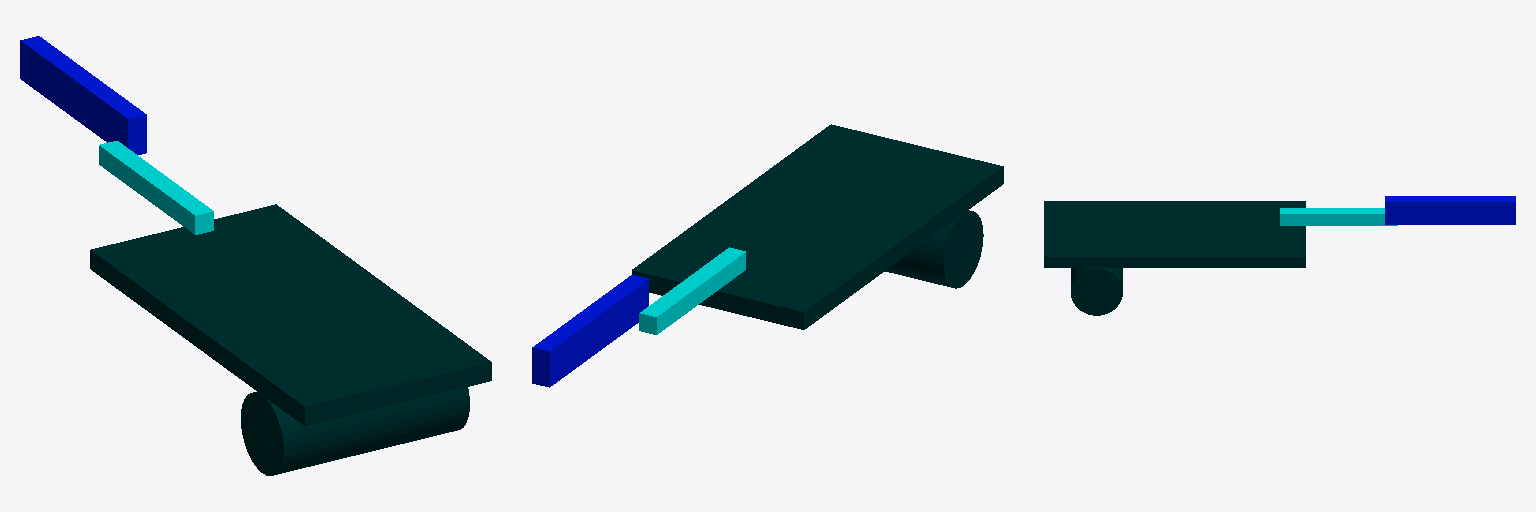
URDF robot description (crawler_robot):
<robot name="crawler_robot">

	<!-- * * * Link Definitions * * * -->

	<link name="base_link">
		<visual>
			<origin xyz="0 0 0.05" rpy="0 0 0" />
			<geometry>
				<box size="1 2 0.1" />
			</geometry>
			<material name="Grey">
				<color rgba="0 0.2 0.2 1.0" />
			</material>
		</visual>
		<inertial>
			<mass value="1" />
			<origin xyz="0 0 0.05" rpy="0 0 0" />
			<inertia ixx="0.4" ixy="0.0" ixz="0.0" iyy="0.4" iyz="0.0" izz="0.2" />
		</inertial>
		<collision>
			<origin xyz="0 0 0.05" rpy="0 0 0" />
			<geometry>
				<box size="1 2 0.1" />
			</geometry>
		</collision>
	</link>

	<link name="underbuild">
		<visual>
			<origin xyz="0 -0.6 -0.2" rpy="0 1.57 0" />
			<geometry>
				<cylinder radius="0.2" length="1" />
			</geometry>
			<material name="Grey">
				<color rgba="0 0.2 0.2 1.0" />
			</material>
		</visual>
		<inertial>
			<mass value="2" />
			<origin xyz="0 0 0.05" rpy="0 0 0" />
			<inertia ixx="0.4" ixy="0.0" ixz="0.0" iyy="0.4" iyz="0.0" izz="0.2" />
		</inertial>
		<collision>
			<origin xyz="0 -0.6 -0.2" rpy="0 1.57 0" />
			<geometry>
				<cylinder radius="0.2" length="1" />
			</geometry>
		</collision>
	</link>

	<gazebo reference="base_link">
		<mu1>0.02</mu1>
		<mu2>0.02</mu2>
		<material>Gazebo/Blue</material>
	</gazebo>
	<gazebo reference="underbuild">
		<mu1>0.02</mu1>
		<mu2>0.02</mu2>
		<material>Gazebo/Blue</material>
	</gazebo>


	<link name="leg1">
		<visual>
			<origin xyz="0 0.45 0.0" rpy="0 0 0" />
			<geometry>
				<box size="0.1 0.9 0.1" />
			</geometry>
			<material name="Cyan1">
				<color rgba="0 0.9 0.9 1.0" />
			</material>
		</visual>
		<inertial>
			<origin xyz="0 0.45 0.0" rpy="0 0 0" />
			<mass value="0.2" />
			<inertia ixx="0.1" ixy="0.0" ixz="0.0" iyy="0.1" iyz="0.0" izz="0.1" />
		</inertial>
		<collision>

			<origin xyz="0 0.45 0.0" rpy="0 0 0" />
			<geometry>
				<box size="0.1 0.9 0.1" />
			</geometry>
		</collision>
	</link>

	<link name="leg2">
		<visual>
			<origin xyz="0 0.5 0.0" rpy="0 0 0" />
			<geometry>
				<box size="0.1 1 0.2" />
			</geometry>
			<material name="blue">
				<color rgba="0 0.1 0.9 1.0" />
			</material>
		</visual>
		<inertial>
			<origin xyz="0 0.25 0.0" rpy="0 0 0" />
			<mass value="0.2" />
			<inertia ixx="0.1" ixy="0.0" ixz="0.0" iyy="0.1" iyz="0.0" izz="0.1" />
		</inertial>
		<collision>
			<origin xyz="0 0.5 0.0" rpy="0 0 0" />
			<geometry>
				<box size="0.1 1 0.2" />
			</geometry>
		</collision>
	</link>

	<gazebo reference="leg2">
		<mu1>0.2</mu1>
		<mu2>0.2</mu2>
		<material>Gazebo/Black</material>
	</gazebo>


	<joint name="leg1joint" type="revolute">
		<parent link="base_link" />
		<child link="leg1" />
		<limit effort="10000" lower="0.0" upper="1.57" velocity="0.5" />
		<axis xyz="1 0 0" />
		<origin xyz="0 0.8 0.2" />
		<dynamics damping="0.2" />
	</joint>

	<joint name="leg2joint" type="revolute">
		<parent link="leg1" />
		<child link="leg2" />
		<limit effort="10000" lower="-1.57" upper="0.0" velocity="0.5" />
		<axis xyz="1 0 0" />
		<origin xyz="0.1 0.8 0.1" />
		<dynamics damping="0.2" />
	</joint>
<joint name="backjoint" type="fixed">
		<parent link="base_link" />
		<child link="underbuild" />
  		<origin xyz="0 0 0 " />
	</joint>
</robot> 

--- Render facts (derived) ---
Views: 3 orthographic renders of the robot side by side, from view 1: azimuth 30°, elevation 25°; view 2: azimuth 150°, elevation 25°; view 3: azimuth 270°, elevation 25°.
Model crawler_robot with 4 links and 3 joints (2 revolute, 1 fixed), rooted at base_link, posed every joint at zero.
Links seen in each view (by area): view 1: base_link, underbuild, leg2, leg1; view 2: base_link, leg2, underbuild, leg1; view 3: base_link, leg2, underbuild, leg1.
Link boxes in pixels (bbox=[...]): base_link: bbox=[90, 204, 491, 426]; underbuild: bbox=[241, 387, 469, 475]; leg2: bbox=[20, 36, 146, 154]; leg1: bbox=[99, 141, 213, 234]; base_link: bbox=[632, 124, 1003, 329]; leg2: bbox=[532, 275, 648, 387]; underbuild: bbox=[885, 210, 983, 288]; leg1: bbox=[639, 247, 745, 334]; base_link: bbox=[1044, 201, 1305, 267]; leg2: bbox=[1385, 196, 1515, 224]; underbuild: bbox=[1071, 268, 1122, 315]; leg1: bbox=[1280, 208, 1397, 225].
Bounding box of the posed robot: 1 × 3.6 × 0.8004 m (x, y, z).
Geometry: primitives only (box / cylinder / sphere), no mesh files.